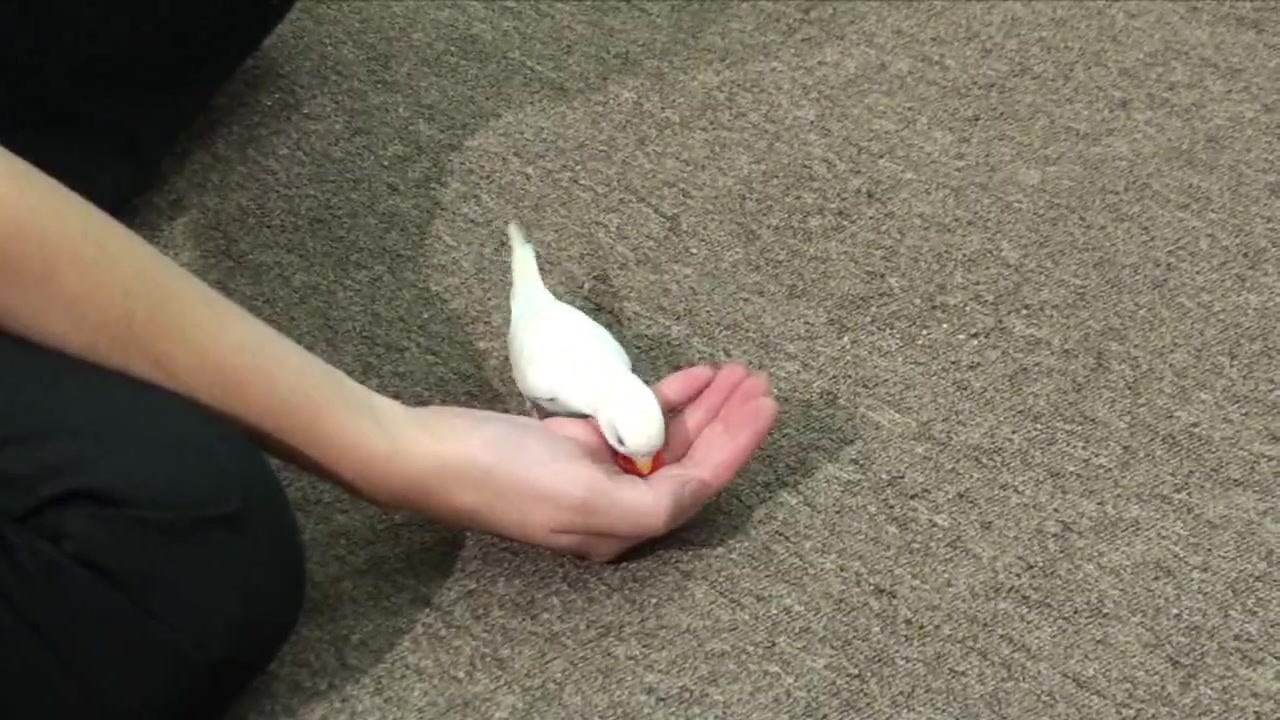bird: (506, 222, 667, 476)
